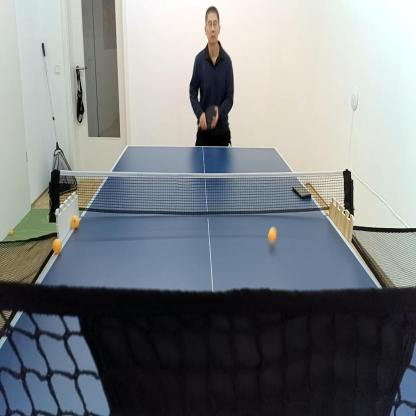Ball: (53, 238, 62, 254), (71, 214, 79, 229), (269, 226, 276, 241), (10, 227, 13, 234)
